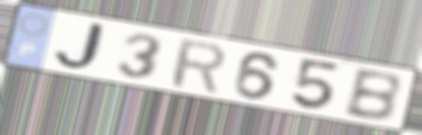3: (115, 33, 165, 80)
5: (291, 55, 345, 114)
6: (231, 51, 283, 101)
B: (340, 67, 404, 124)
J: (52, 21, 114, 73)
R: (168, 36, 228, 96)
